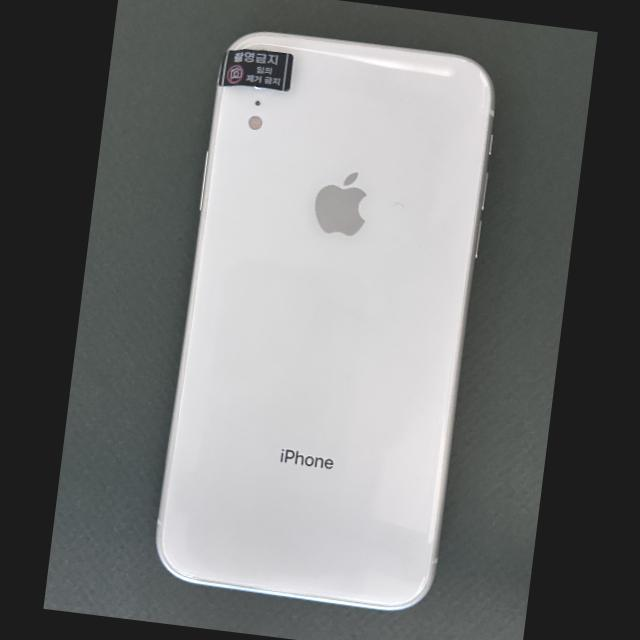phone: (157, 33, 494, 609)
sticker: (218, 48, 293, 92)
